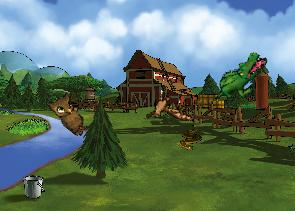crocodile: (212, 43, 269, 112)
eagle: (141, 87, 194, 132)
owl: (43, 87, 97, 138)
